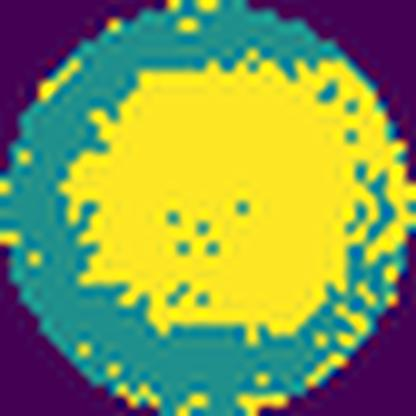Center: (62, 64, 350, 334)
